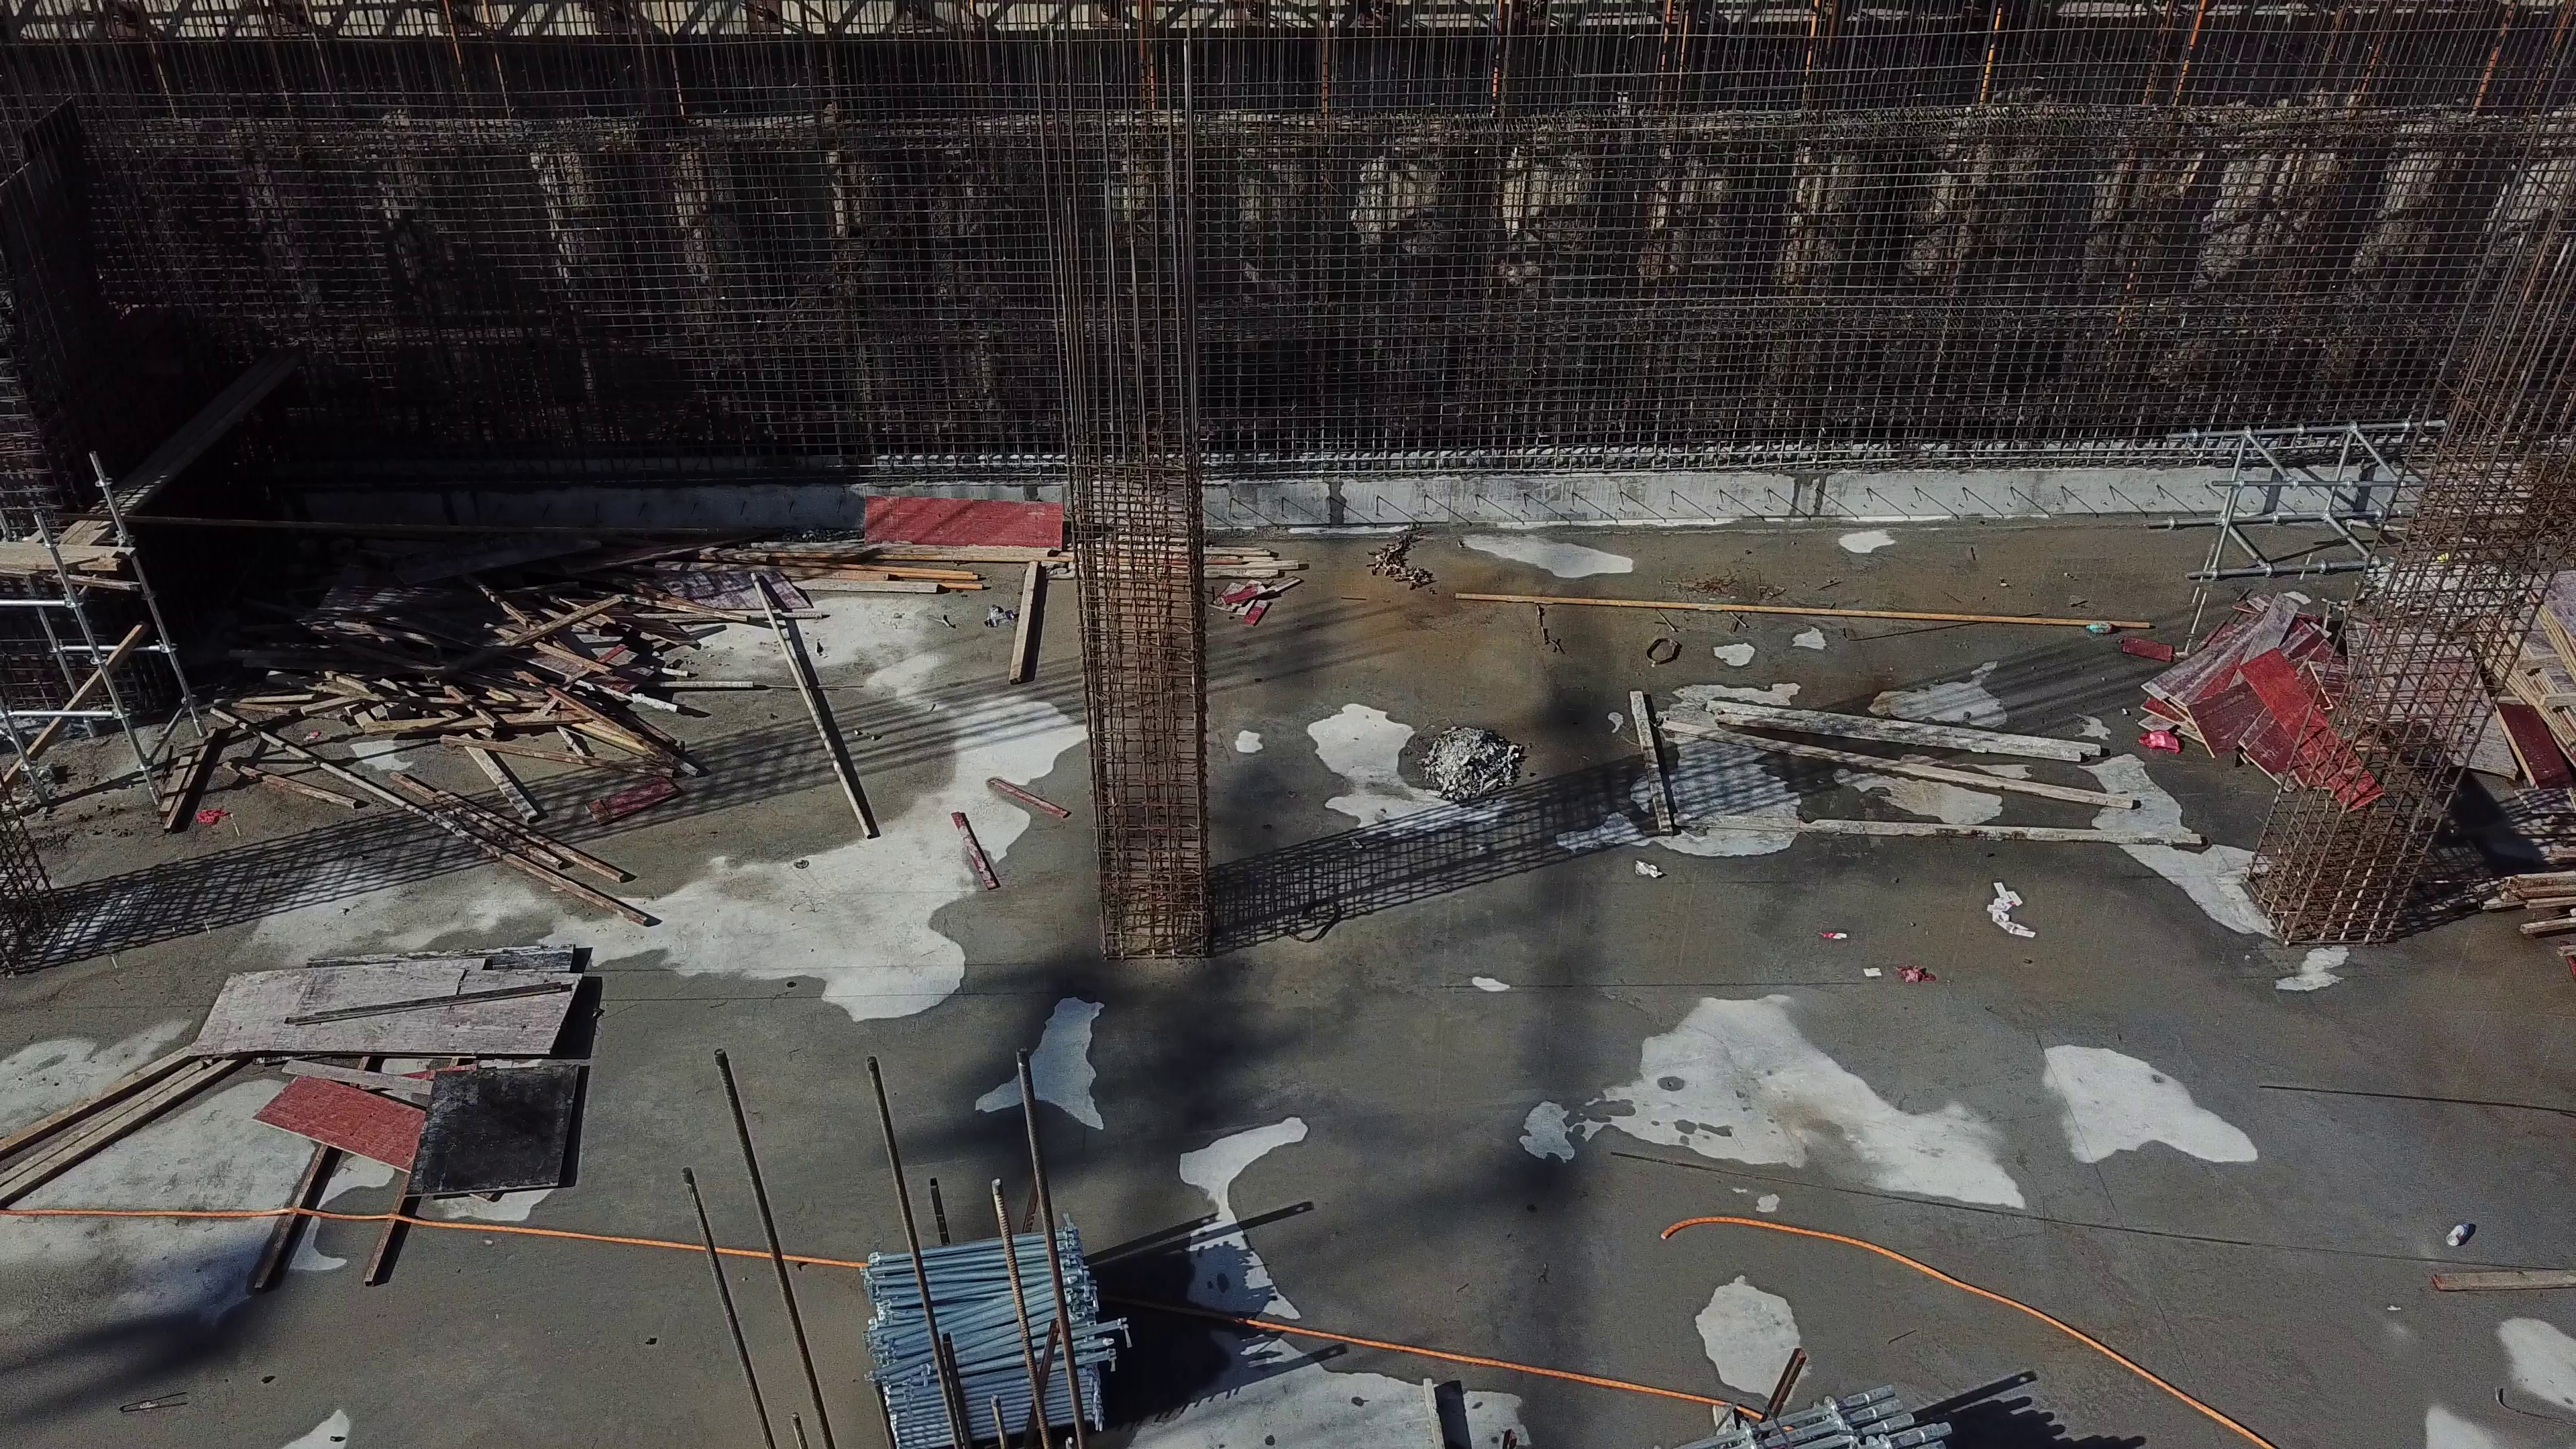scaffold: (860, 1228, 1146, 1449)
